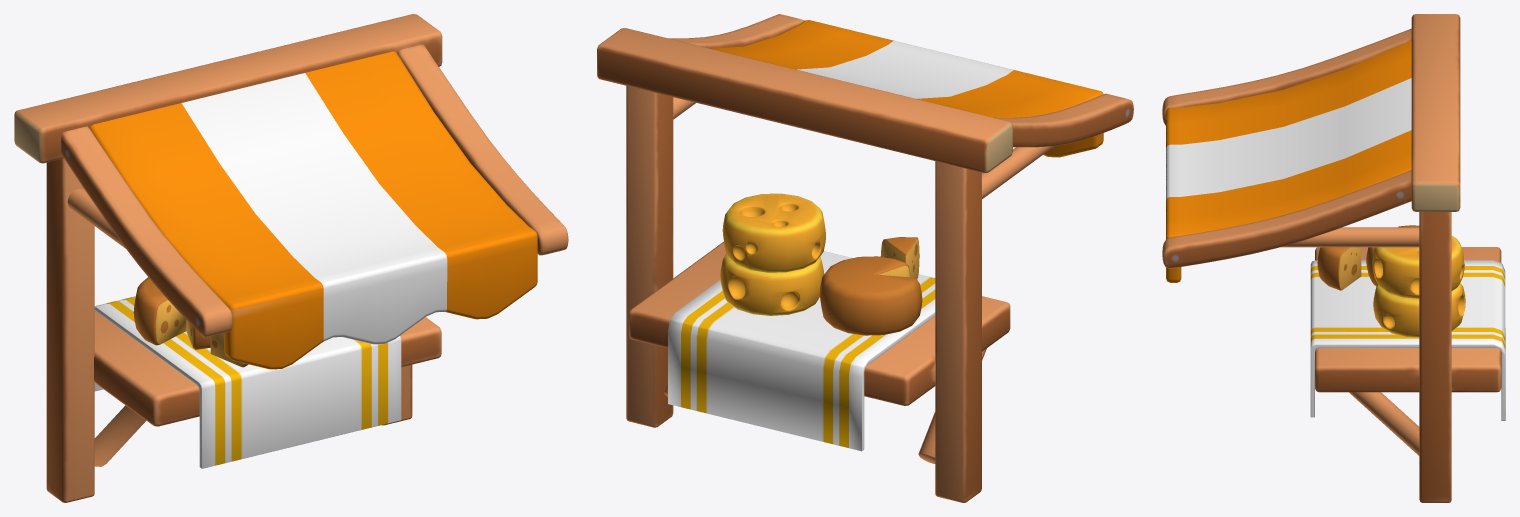
File: cheese stand.fbx
3 renders of one model, left to right at view 1: azimuth 30°, elevation 25°; view 2: azimuth 150°, elevation 25°; view 3: azimuth 270°, elevation 25°, orthographic. The views are drawn at different scales.
Parts seen in each view (by area): view 1: cheese stand, cheese2; view 2: cheese stand, cheese, cheese2, cheese.001, cheese2 slice; view 3: cheese stand, cheese, cheese.001, cheese2 slice.
Boxes of the visible parts, x1,y1,x2,y2 form: cheese stand: [14, 14, 568, 502]; cheese2: [133, 277, 210, 349]; cheese stand: [597, 14, 1133, 502]; cheese: [722, 193, 825, 272]; cheese2: [819, 256, 922, 335]; cheese.001: [720, 254, 824, 315]; cheese2 slice: [880, 237, 919, 279]; cheese stand: [1162, 14, 1505, 502]; cheese: [1372, 236, 1464, 298]; cheese.001: [1373, 283, 1465, 337]; cheese2 slice: [1317, 247, 1361, 290].
Bounding box in the file's own units: 245 × 223 × 209.
